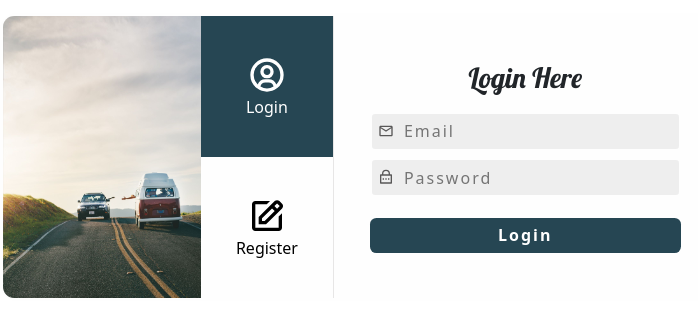
Test: Given a LoginRegisterForm component › When invoked and the user clicks on the Register field and then on the Login field › Then it should render the form title text 'Login Here'
Step 1. Click the text "Register" → (267, 248), box [236,236,298,260]
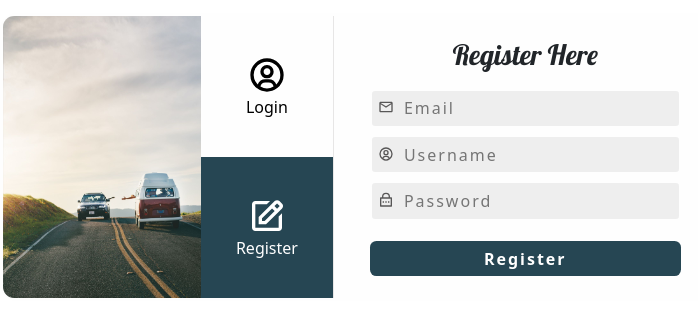
Step 2. Click the text "Login" → (267, 106), box [246,94,288,118]
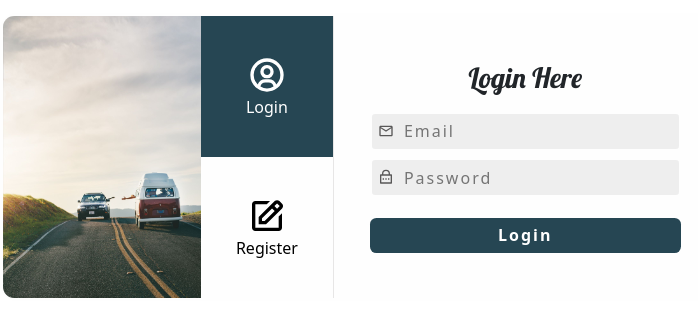
Check: the heading "Login Here" is shown, box [468,61,582,95]
